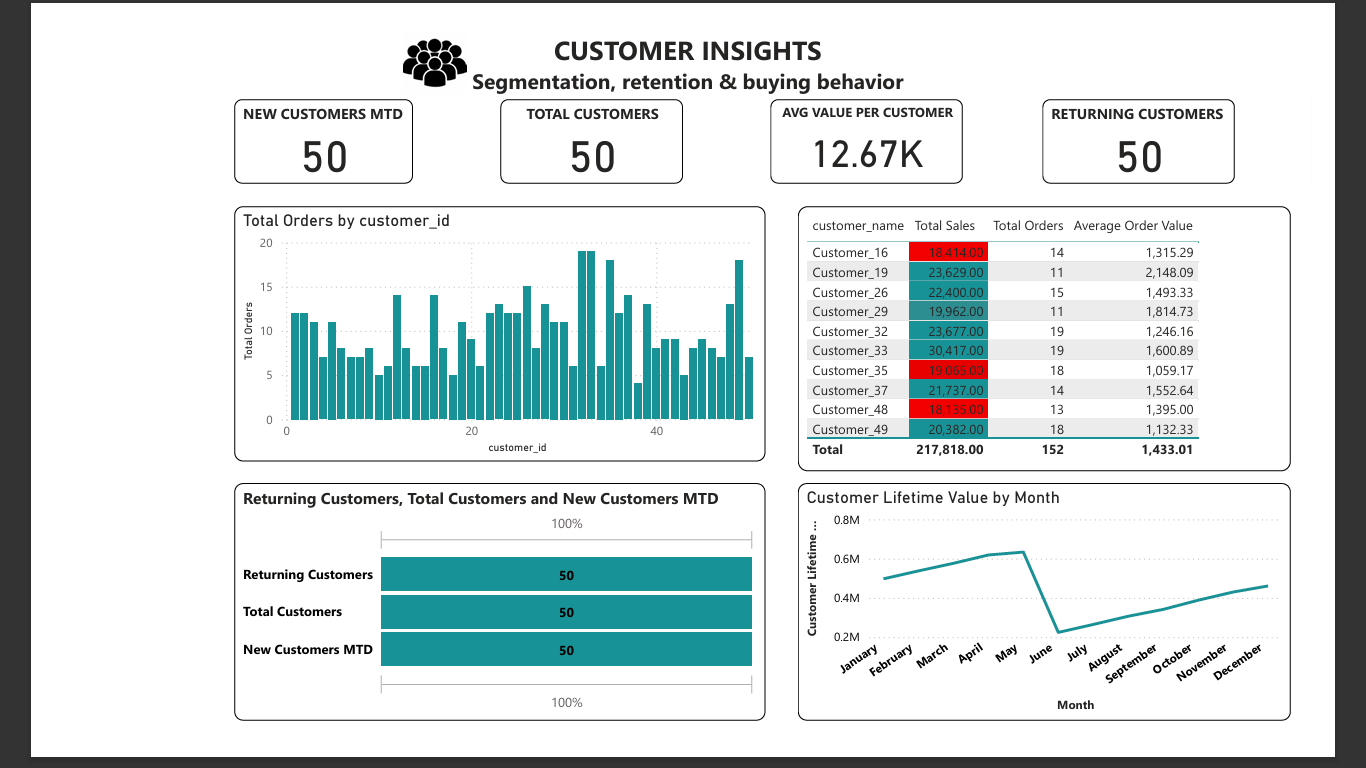

This screenshot's page, from the dashboard's own definition file:
{"tool":"powerbi","page":{"name":"CUSTOMER/ORDER INSIGHTS","canvas":[1280,720],"ordinal":2},"visuals":[{"type":"textbox","box":[9.6,0,1270.4,74.3],"z":0},{"type":"card","title":"RETURNING CUSTOMERS","fields":{"Values":["All measures.Returning Customers"]},"box":[1006.1,74.3,195.4,85.3],"z":1000},{"type":"card","title":"AVG VALUE PER CUSTOMER","fields":{"Values":["All measures.Avg Revenue per Customer"]},"box":[729.5,74.3,195.4,85.3],"z":2000},{"type":"card","title":"TOTAL CUSTOMERS","fields":{"Values":["All measures.Total Customers"]},"box":[454.2,74.3,185.8,85.3],"z":3000},{"type":"card","title":"NEW CUSTOMERS MTD","fields":{"Values":["All measures.New Customers MTD"]},"box":[183.1,74.3,181.7,85.3],"z":4000},{"type":"clusteredColumnChart","fields":{"Y":["All measures.Total Orders"],"Category":["customers.customer_id"]},"box":[183.1,183.1,540.9,260.1],"z":5000},{"type":"tableEx","fields":{"Values":["customers.customer_name","All measures.Total Sales","All measures.Total Orders","All measures.Average Order Value"]},"box":[757,183.1,502.4,269.8],"z":6000},{"type":"lineChart","fields":{"Category":["DateTable.Date.Variation.Date Hierarchy.Month","DateTable.Date.Variation.Date Hierarchy.Day"],"Y":["All measures.CLV"]},"box":[757,465.2,502.4,242.2],"z":7000},{"type":"funnel","fields":{"Y":["All measures.Returning Customers","All measures.Total Customers","All measures.New Customers MTD"]},"box":[183.1,465.2,540.9,242.2],"z":8000},{"type":"image","box":[297.3,0,178.9,74.3],"z":8001}]}

Visuals, with their boxes in screenshot pixels (x1, y1, x2, y2), scaled from the page's 1280x720 canvas onto the 1366x768 screenshot:
textbox: <bbox>10, 0, 1365, 79</bbox>
"RETURNING CUSTOMERS" card: <bbox>1074, 79, 1282, 170</bbox>
"AVG VALUE PER CUSTOMER" card: <bbox>779, 79, 987, 170</bbox>
"TOTAL CUSTOMERS" card: <bbox>485, 79, 683, 170</bbox>
"NEW CUSTOMERS MTD" card: <bbox>195, 79, 389, 170</bbox>
clusteredColumnChart - All measures.Total Orders x customers.customer_id: <bbox>195, 195, 773, 473</bbox>
tableEx - customers.customer_name x All measures.Total Sales: <bbox>808, 195, 1344, 483</bbox>
lineChart - DateTable.Date.Variation.Date Hierarchy.Month x DateTable.Date.Variation.Date Hierarchy.Day: <bbox>808, 496, 1344, 755</bbox>
funnel - All measures.Returning Customers x All measures.Total Customers: <bbox>195, 496, 773, 755</bbox>
image: <bbox>317, 0, 508, 79</bbox>
